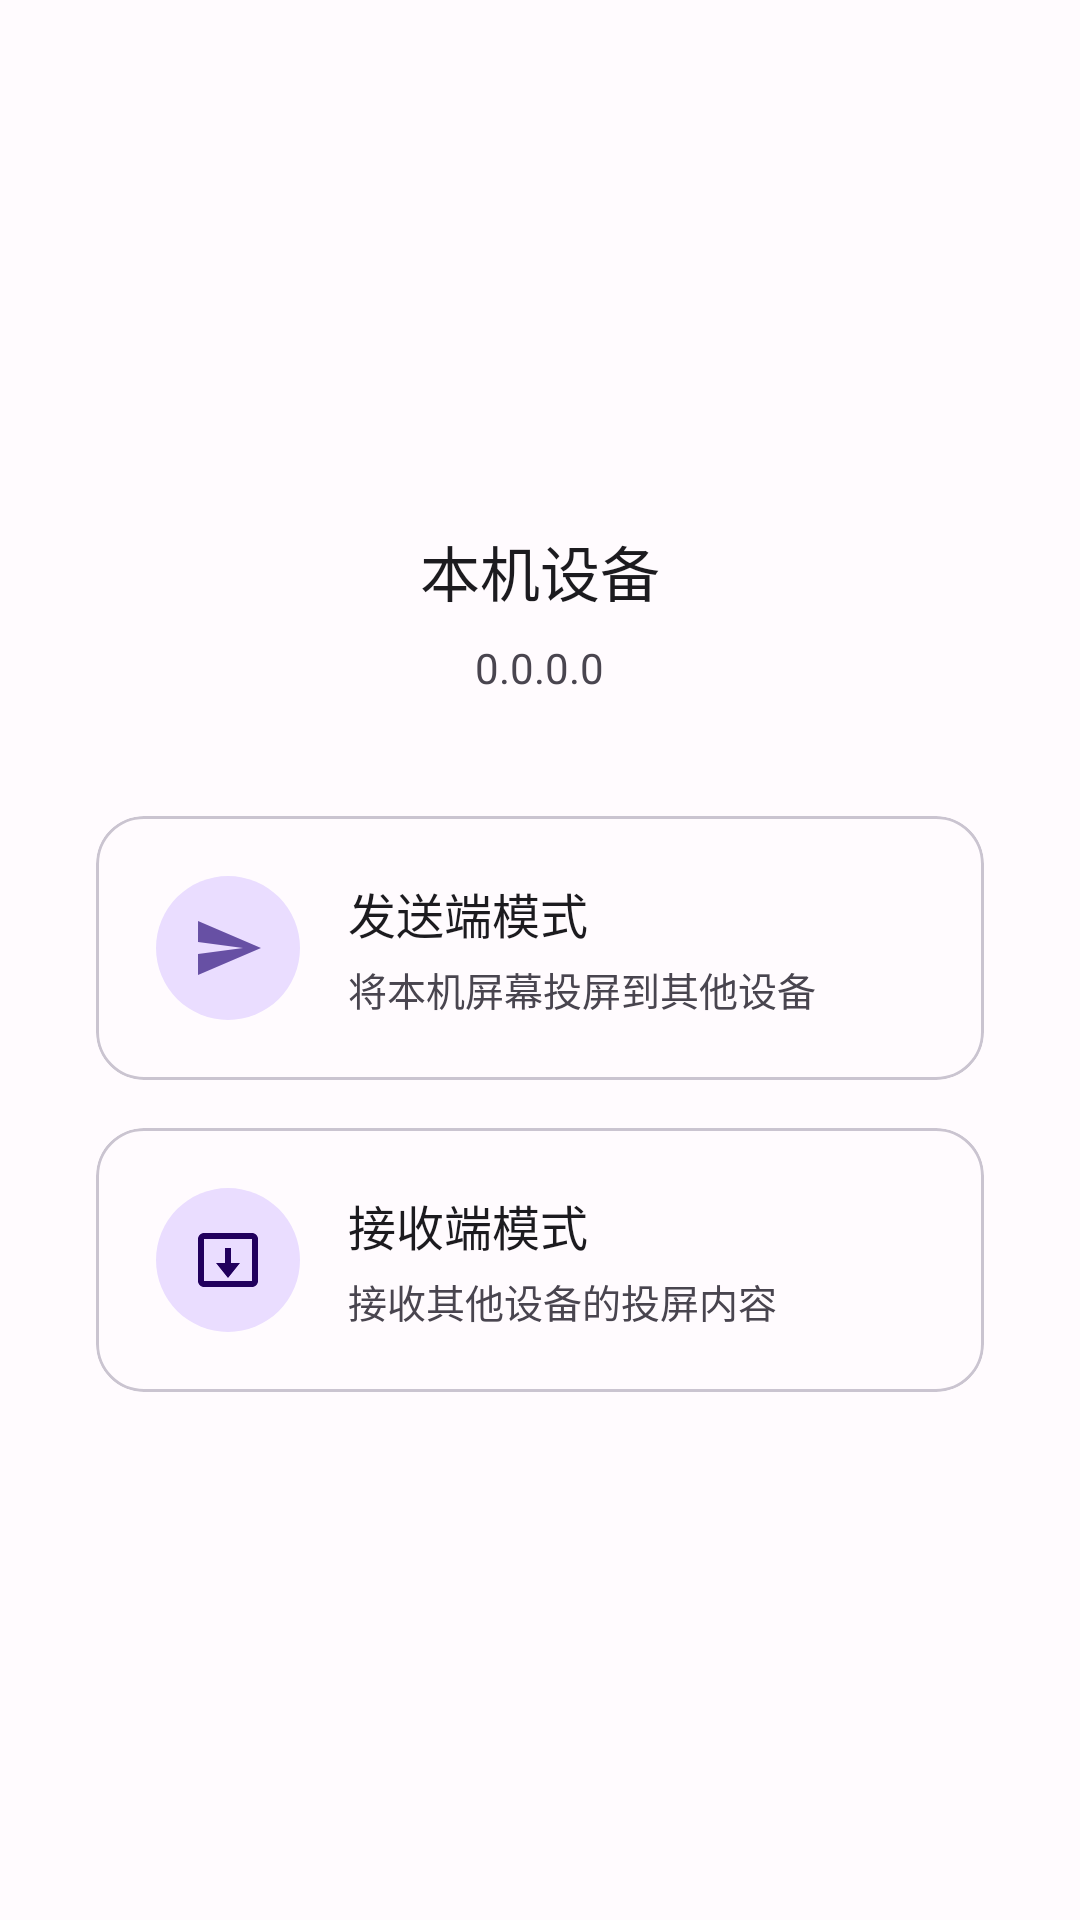

Named icons in this screenshot (1080px×1920px) and their bounding boxes, (x1, y1, x2, y2):
receive: (156, 1188, 300, 1332)
send: (156, 876, 300, 1020)
